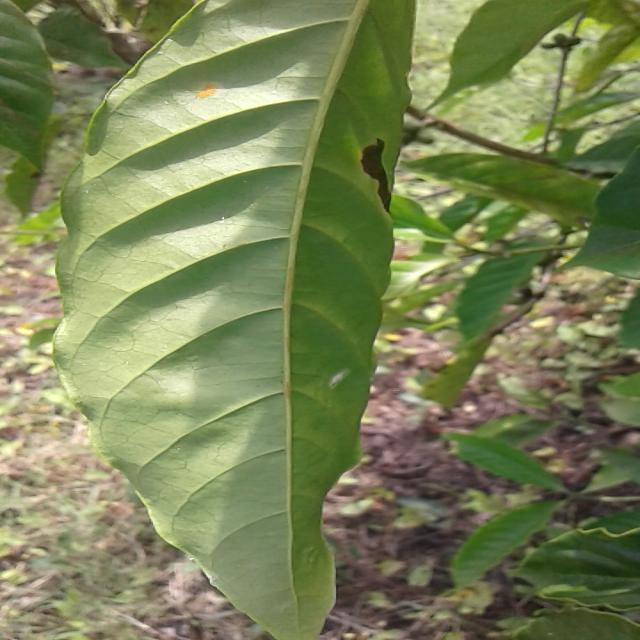Plaga-AranaRoja: (75, 0, 418, 640)
